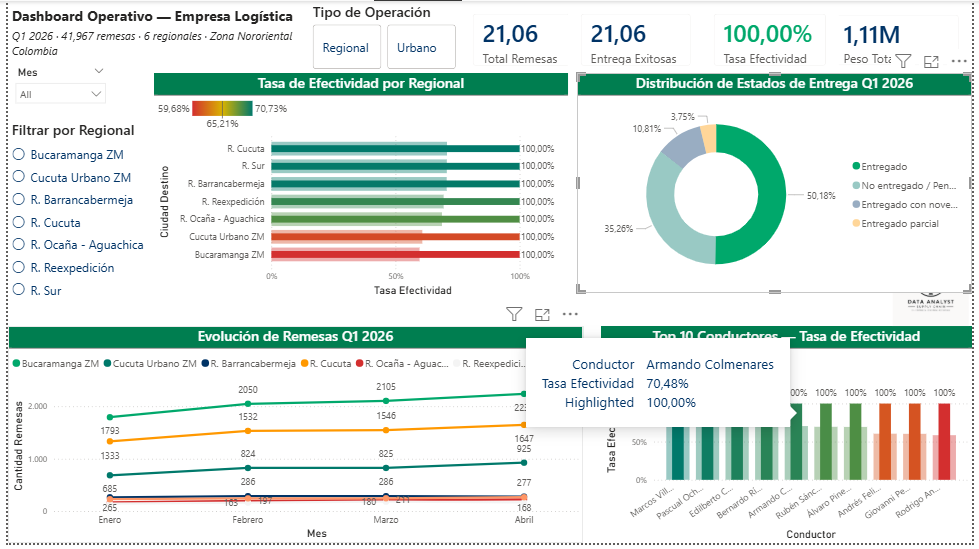

Layout of this report page (visuals, bound fields, positions):
{"tool":"powerbi","page":{"name":"Dashboard OP","canvas":[1280,720],"ordinal":0},"visuals":[{"type":"cardVisual","fields":{"Data":["aldia_Q1_detalle_powerbi (1).Peso Total KG"]},"box":[1080,1.7,200,101.7],"z":0},{"type":"cardVisual","fields":{"Data":["aldia_Q1_detalle_powerbi (1).Tasa Efectividad"]},"box":[920,0,183.3,103.3],"z":1000},{"type":"cardVisual","fields":{"Data":["aldia_Q1_detalle_powerbi (1).Total Remesas"]},"box":[600,0,163.3,103.3],"z":2000},{"type":"cardVisual","fields":{"Data":["aldia_Q1_detalle_powerbi (1).Entrega Exitosas"]},"box":[743.3,0,180,103.3],"z":3000},{"type":"clusteredBarChart","title":"Tasa de Efectividad por Regional","fields":{"Y":["aldia_Q1_detalle_powerbi (1).Tasa Efectividad"],"Category":["aldia_Q1_detalle_powerbi (1).Regional_clean"]},"box":[193.3,95,550,300],"z":4000},{"type":"slicer","fields":{"Values":["aldia_Q1_detalle_powerbi (1).Mes"]},"box":[0,81.7,140,76.7],"z":5000},{"type":"lineChart","title":"Evolución de Remesas Q1 2026","fields":{"Category":["aldia_Q1_detalle_powerbi (1).Mes"],"Series":["aldia_Q1_detalle_powerbi (1).Regional_clean"],"Y":["aldia_Q1_detalle_powerbi (1).Cantidad Remesas"]},"box":[0,431.7,763.9,288.3],"z":6000},{"type":"clusteredColumnChart","title":"Top 10 Conductores — Tasa de Efectividad","fields":{"Category":["aldia_Q1_detalle_powerbi (1).Conductor"],"Y":["aldia_Q1_detalle_powerbi (1).Tasa Efectividad"]},"box":[787.7,431.7,492.8,288.3],"z":7000},{"type":"donutChart","title":"Distribución de Estados de Entrega Q1 2026","fields":{"Y":["aldia_Q1_detalle_powerbi (1).Total Remesas"],"Category":["aldia_Q1_detalle_powerbi (1).Estado Agrupado"]},"box":[755.9,95.6,524.7,292.3],"z":8000},{"type":"listSlicer","fields":{"Values":["aldia_Q1_detalle_powerbi (1).Regional_clean"]},"box":[0,158.3,201.7,256.7],"z":9000},{"type":"advancedSlicerVisual","fields":{"Values":["aldia_Q1_detalle_powerbi (1).Tipo_Operacion"]},"box":[399.9,1.3,200.6,94.3],"z":10000},{"type":"image","box":[1170.3,330.8,110.3,101],"z":11000},{"type":"textbox","box":[0,1.5,399.5,80.5],"z":12000},{"type":"textbox","box":[0,30.7,399.5,51.2],"z":13000}]}

Visuals, with their boxes in screenshot pixels (x1, y1, x2, y2), scaled from the page's 1280x720 canvas onto the 979x549 screenshot:
cardVisual - aldia_Q1_detalle_powerbi (1).Peso Total KG: 826/1/978/79
cardVisual - aldia_Q1_detalle_powerbi (1).Tasa Efectividad: 704/0/844/79
cardVisual - aldia_Q1_detalle_powerbi (1).Total Remesas: 459/0/584/79
cardVisual - aldia_Q1_detalle_powerbi (1).Entrega Exitosas: 569/0/706/79
"Tasa de Efectividad por Regional" clusteredBarChart: 148/72/569/301
slicer - aldia_Q1_detalle_powerbi (1).Mes: 0/62/107/121
"Evolución de Remesas Q1 2026" lineChart: 0/329/584/548
"Top 10 Conductores — Tasa de Efectividad" clusteredColumnChart: 602/329/978/548
"Distribución de Estados de Entrega Q1 2026" donutChart: 578/73/978/296
listSlicer - aldia_Q1_detalle_powerbi (1).Regional_clean: 0/121/154/316
advancedSlicerVisual - aldia_Q1_detalle_powerbi (1).Tipo_Operacion: 306/1/459/73
image: 895/252/978/329
textbox: 0/1/306/63
textbox: 0/23/306/62
